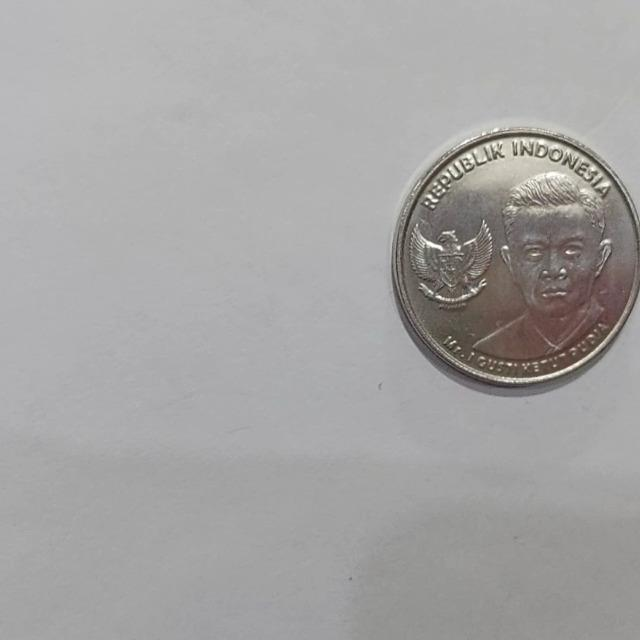Rp100: (393, 125, 640, 389), (467, 168, 616, 363)
